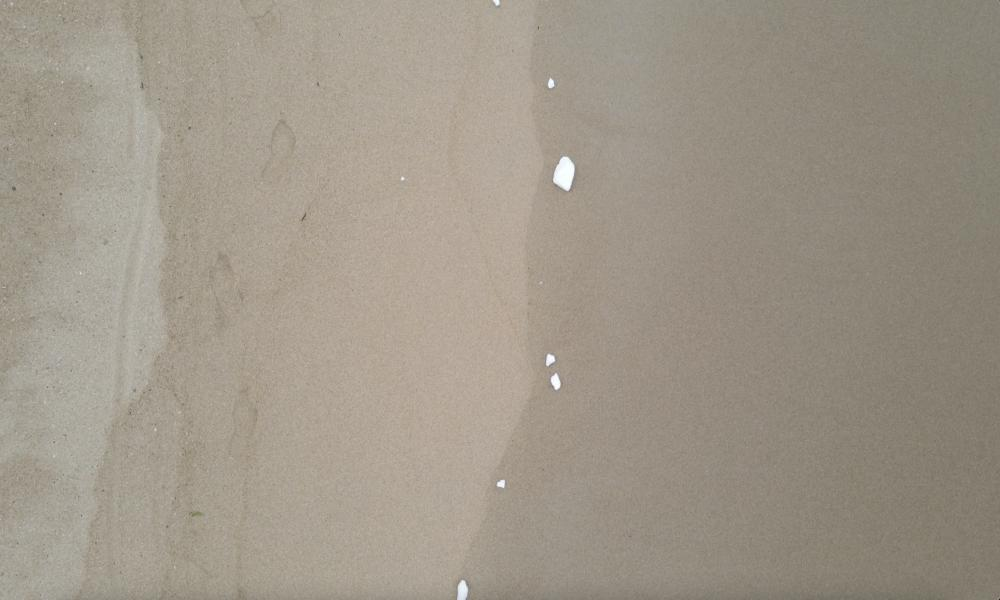styrofoam: (552, 153, 577, 191), (456, 578, 469, 598), (545, 352, 560, 367), (552, 372, 562, 392), (546, 73, 557, 87), (497, 477, 507, 492), (495, 0, 502, 7)
